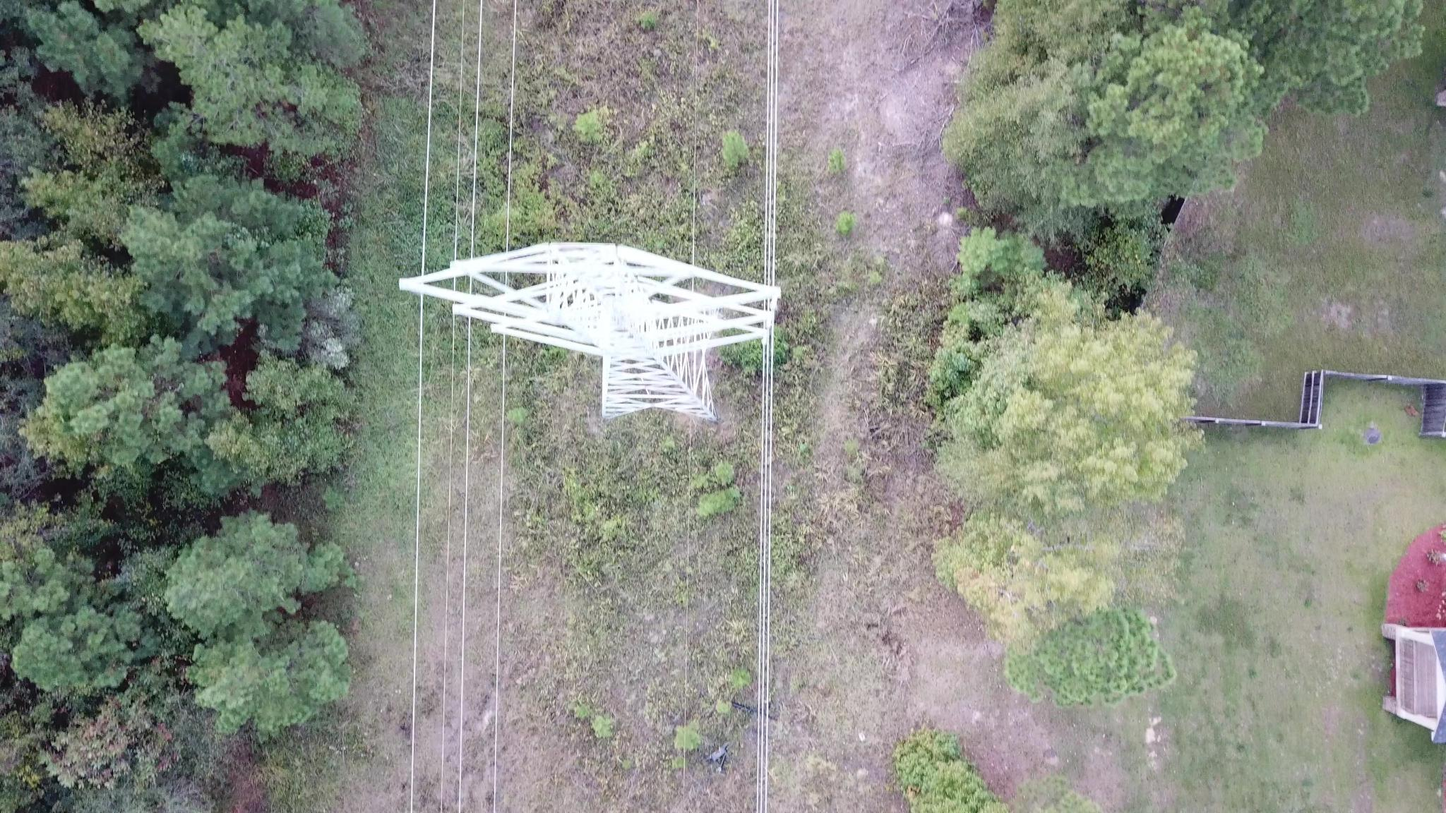tower: (398, 242, 782, 425)
